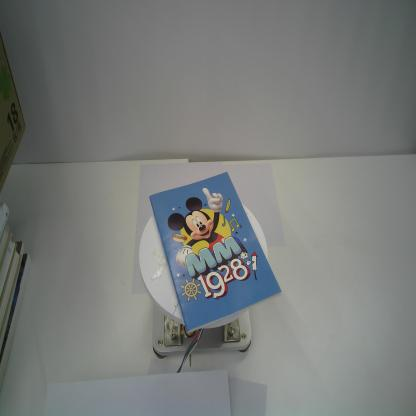Stationery: (150, 171, 282, 335)
